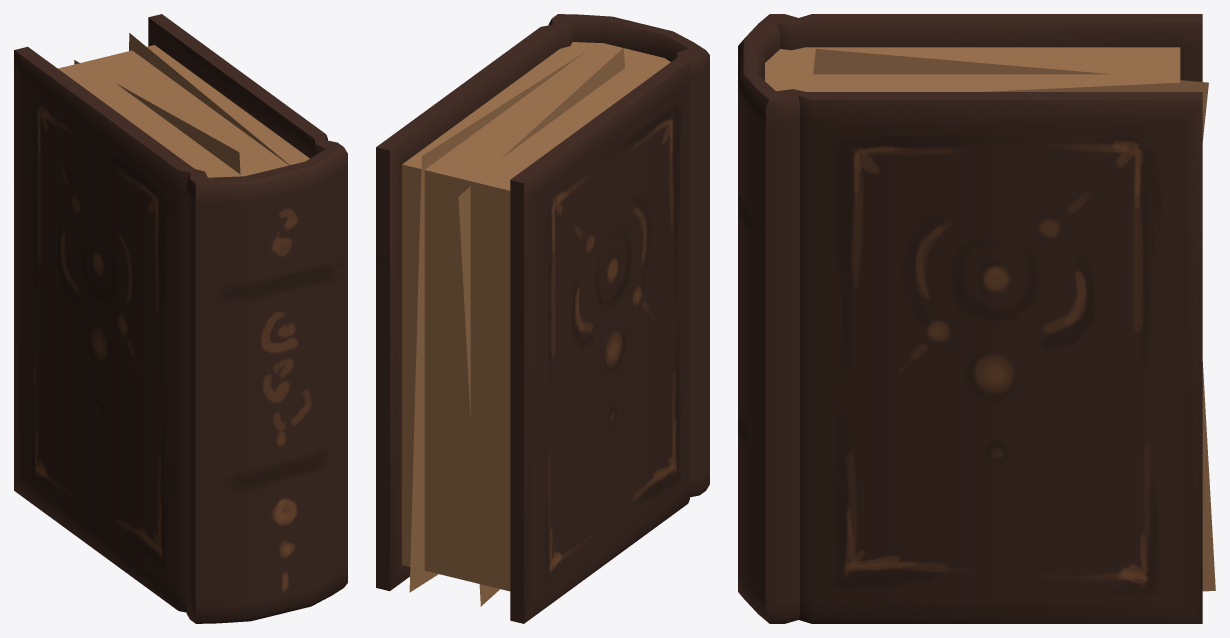
The model's file is FBX_Book_B_Small_Thin.fbx.
3 views of the same model, side by side, from view 1: azimuth 30°, elevation 25°; view 2: azimuth 150°, elevation 25°; view 3: azimuth 270°, elevation 25° (orthographic). The views are drawn at different scales.
Visible parts, largest first — view 1: Book_B_Small_Thin; view 2: Book_B_Small_Thin; view 3: Book_B_Small_Thin.
Boxes of the visible parts, box(x1,y1,x2,y2) form: Book_B_Small_Thin: box(14, 14, 347, 623); Book_B_Small_Thin: box(376, 14, 709, 623); Book_B_Small_Thin: box(738, 14, 1215, 623).
Bounding box in the file's own units: 0.0915 × 0.2609 × 0.2089.
